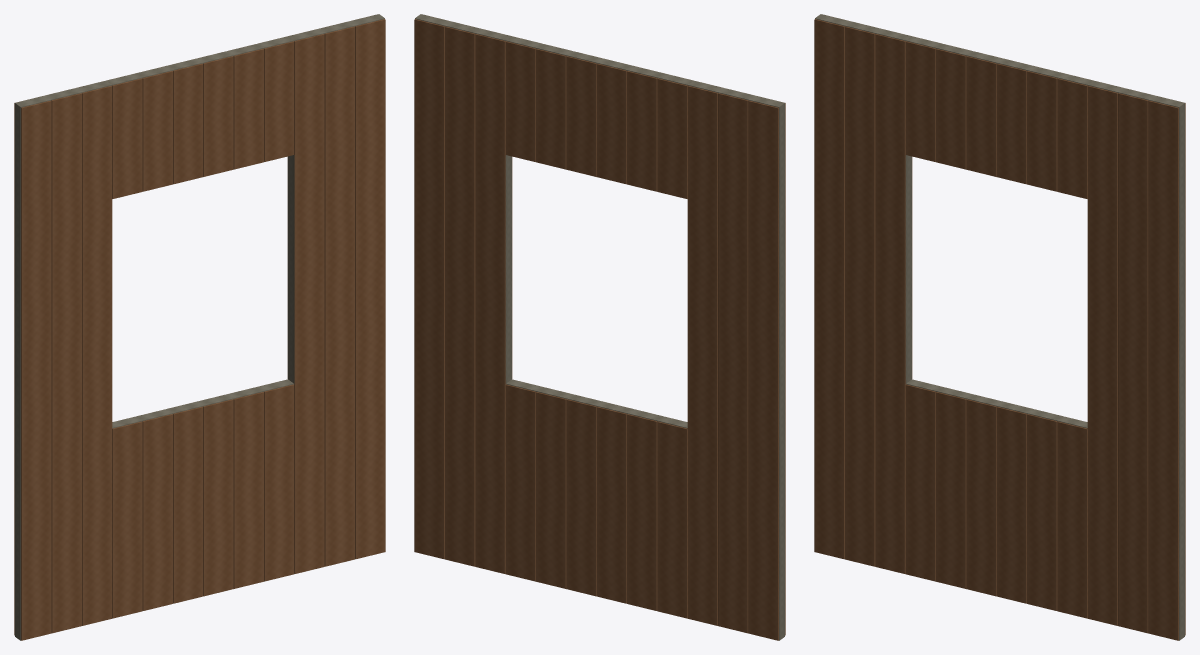
Rendered from MRP_WallWindow_Wood_2m.fbx.
The picture shows the model from 3 angles, left to right: view 1: azimuth 30°, elevation 25°; view 2: azimuth 150°, elevation 25°; view 3: azimuth 330°, elevation 25°; orthographic projection.
Parts seen in each view (by area): view 1: Body; view 2: Body; view 3: Body.
Part boxes in pixels (x1,y1,x2,y2): Body: (14,14,385,640); Body: (414,14,785,640); Body: (814,14,1185,640).
Size of the model in its own units: 2 by 2.8 by 0.07.
